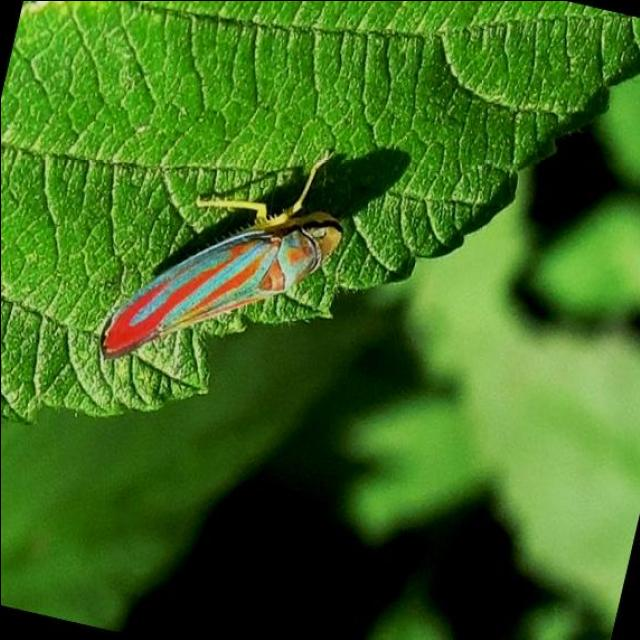green leaf hopper: (100, 154, 340, 358)
